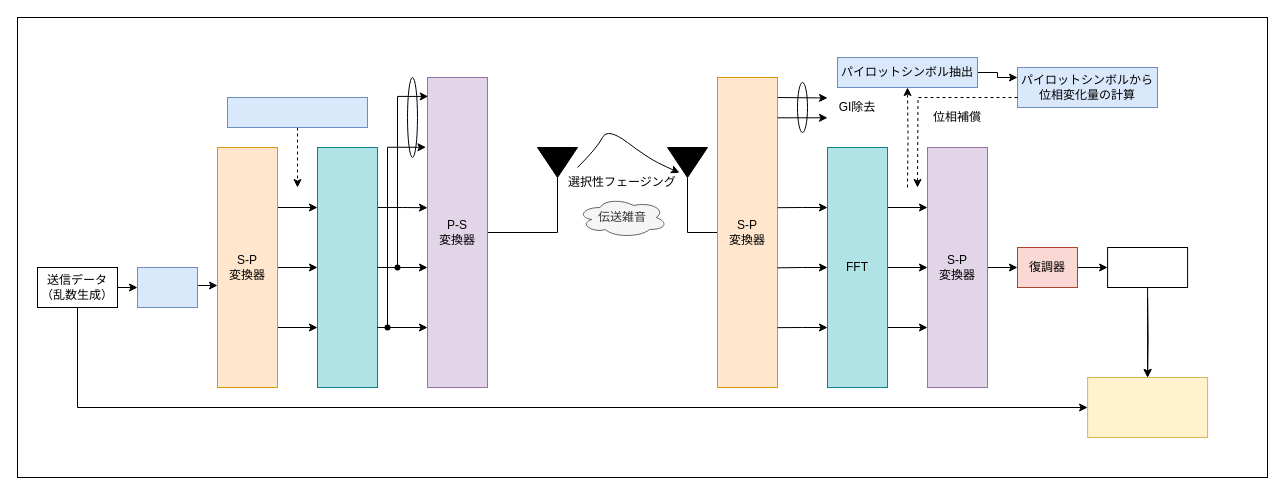
This 1285x495 diagram has some shape labels left out. The shapes that lost their labels are listed below. From the top down, each one's centre as x and y in pixels, then its label:
At (297,112): "パイロットシンボル付加".
At (167,287): "変調器".
At (347,267): "IFFT".
At (1147,267): "受信データ".
At (1147,407): "データ比較器 （BER算出）".
